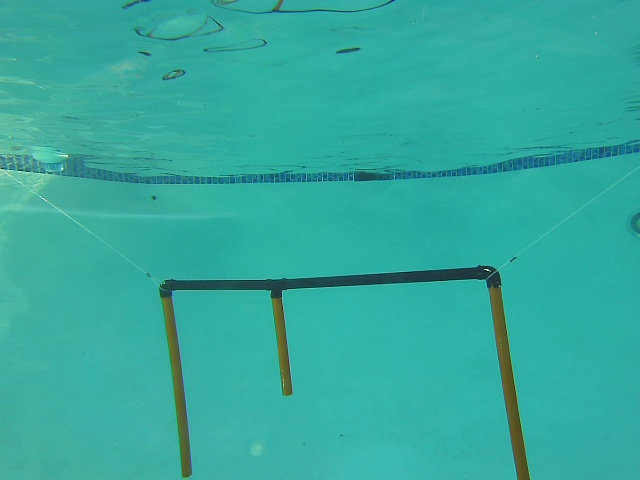Gate: (487, 280, 532, 480), (157, 289, 200, 480), (268, 290, 297, 398)
